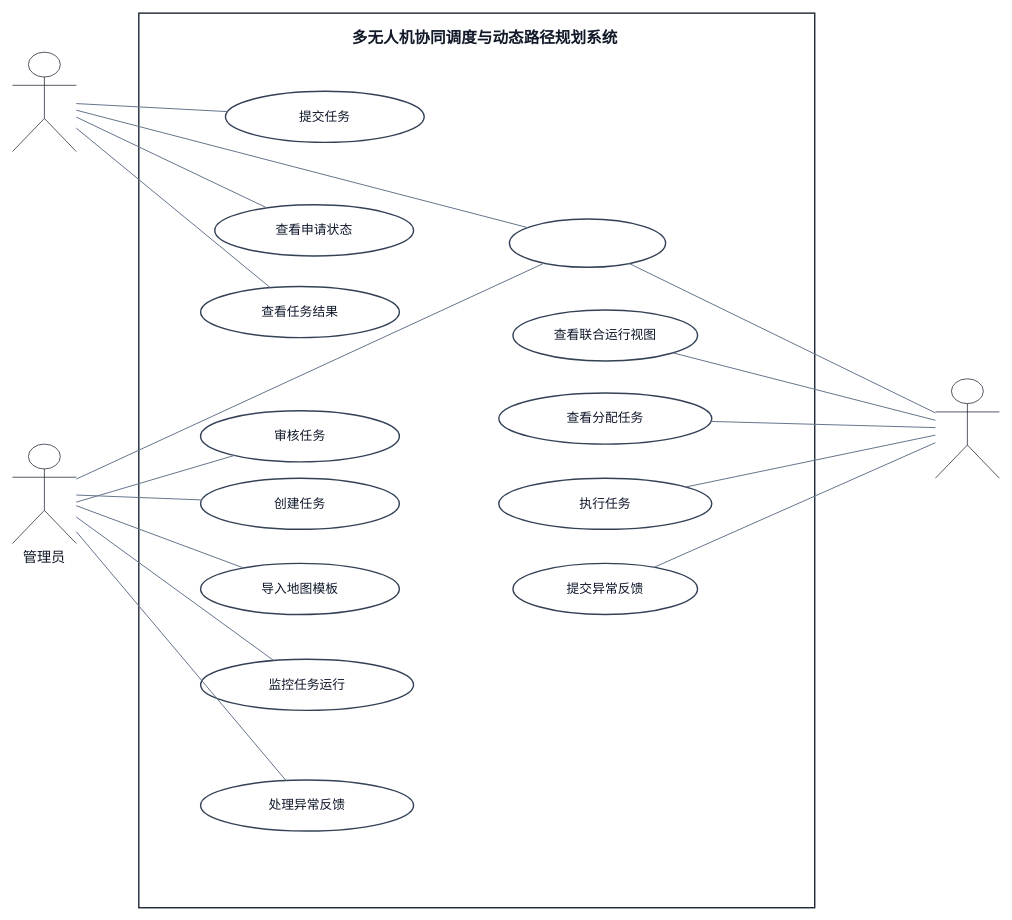
Some shapes in this 1012 by 920 pixel diagram are drawn without their labels. Each missing label, with the centre of its shape:
申请人: pixel 44 101
登录系统: pixel 587 243
飞手: pixel 967 428
